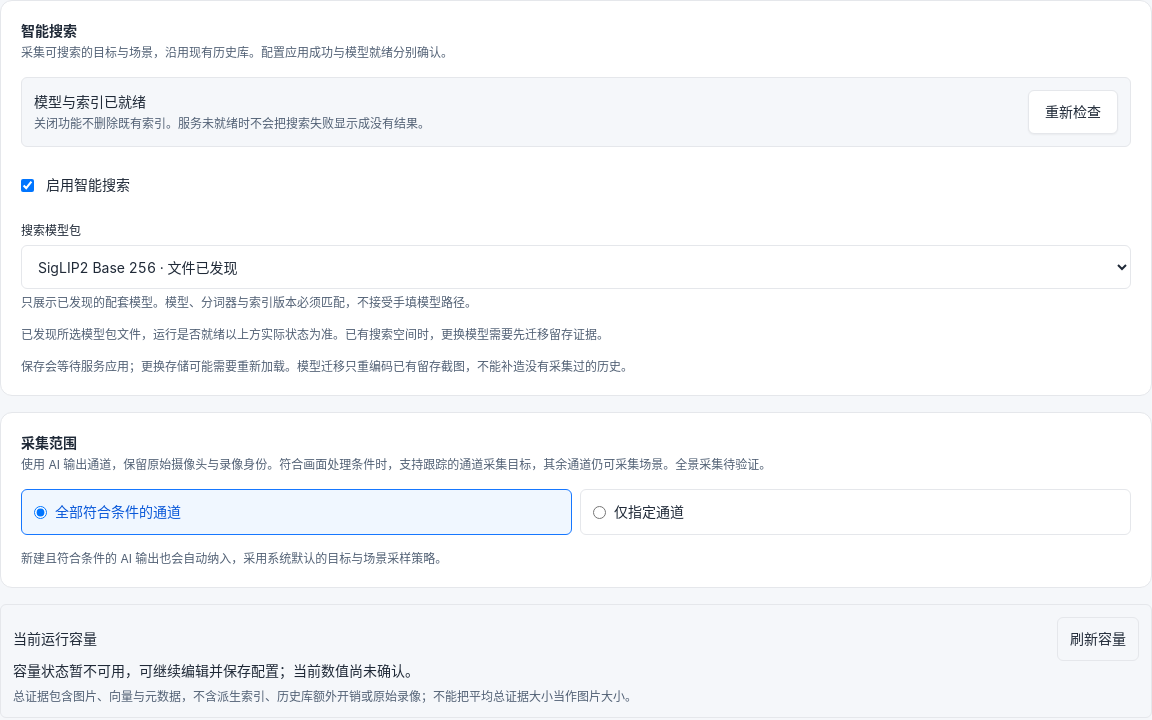
Test: 智能搜索配置 › does not treat a different draft model as the active ready model
Check: the text "模型与索引已就绪" is shown, box [34,93,146,110]
Select "SigLIP so400m · 文件已发现" in the dropdown labelled "搜索模型包" at (576, 267), box [21,245,1131,289]
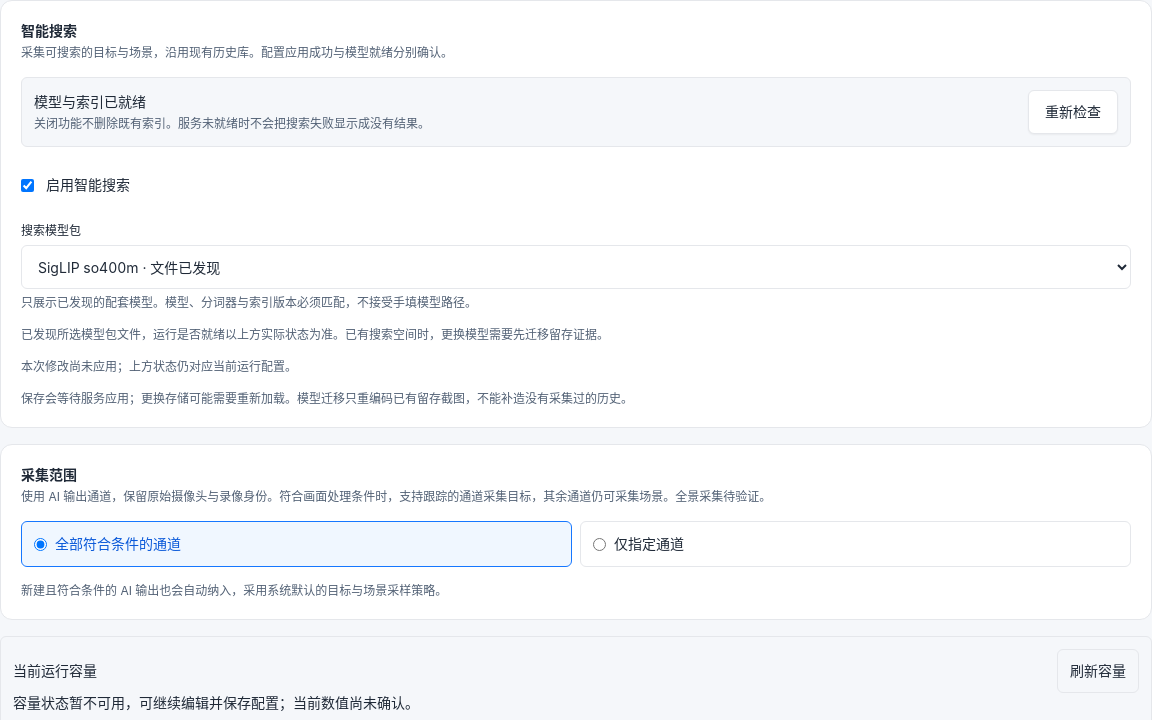
Check: the text "模型与索引已就绪" is shown, box [34,93,146,110]
Check: the text "本次修改尚未应用；上方状态仍对应当前运行配置。" is shown, box [21,359,297,374]
